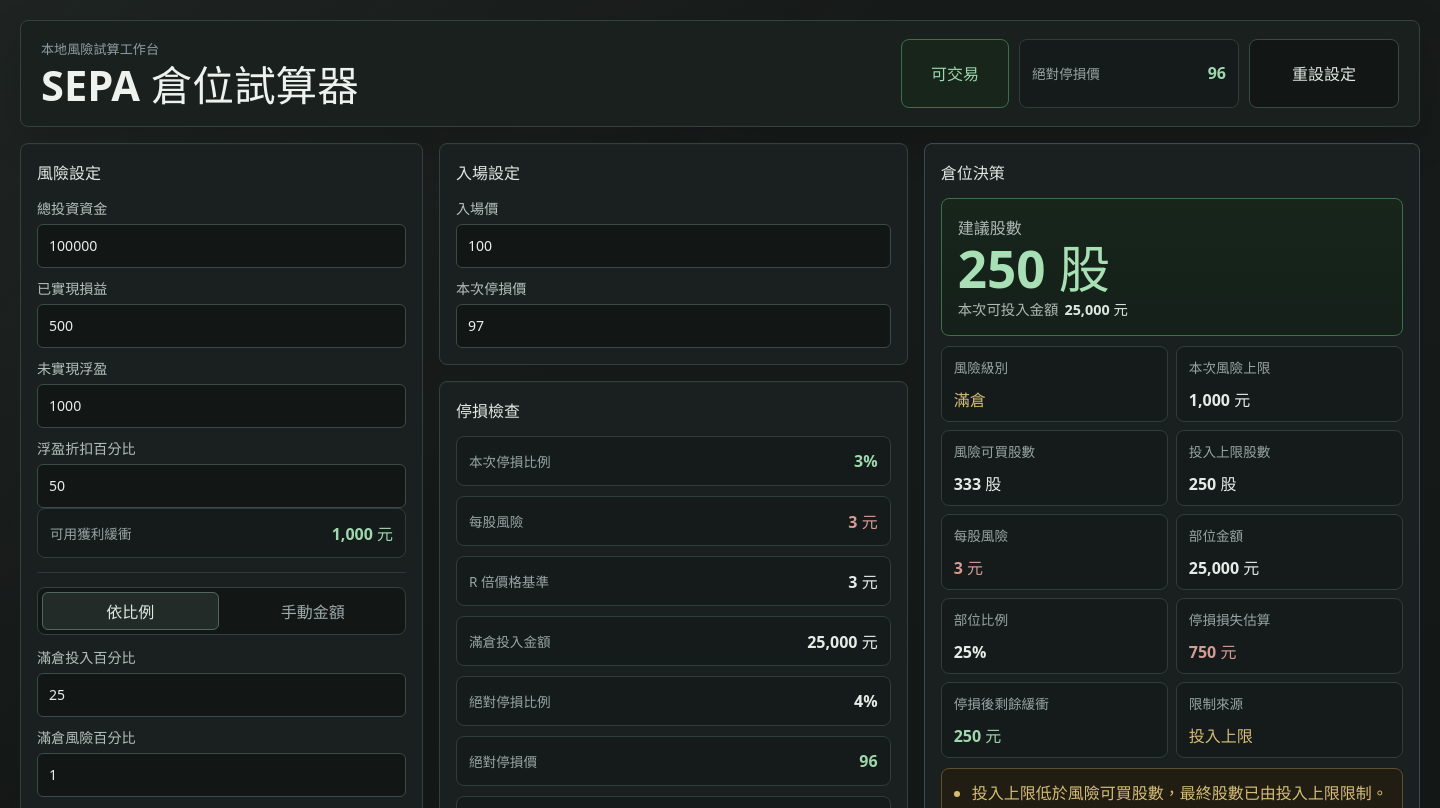
Test: App › 清空必要數值時不顯示非有限推導值
The image size is (1440, 808).
Clear the number field labelled "入場價" at (673, 246), box [456,224,891,268]
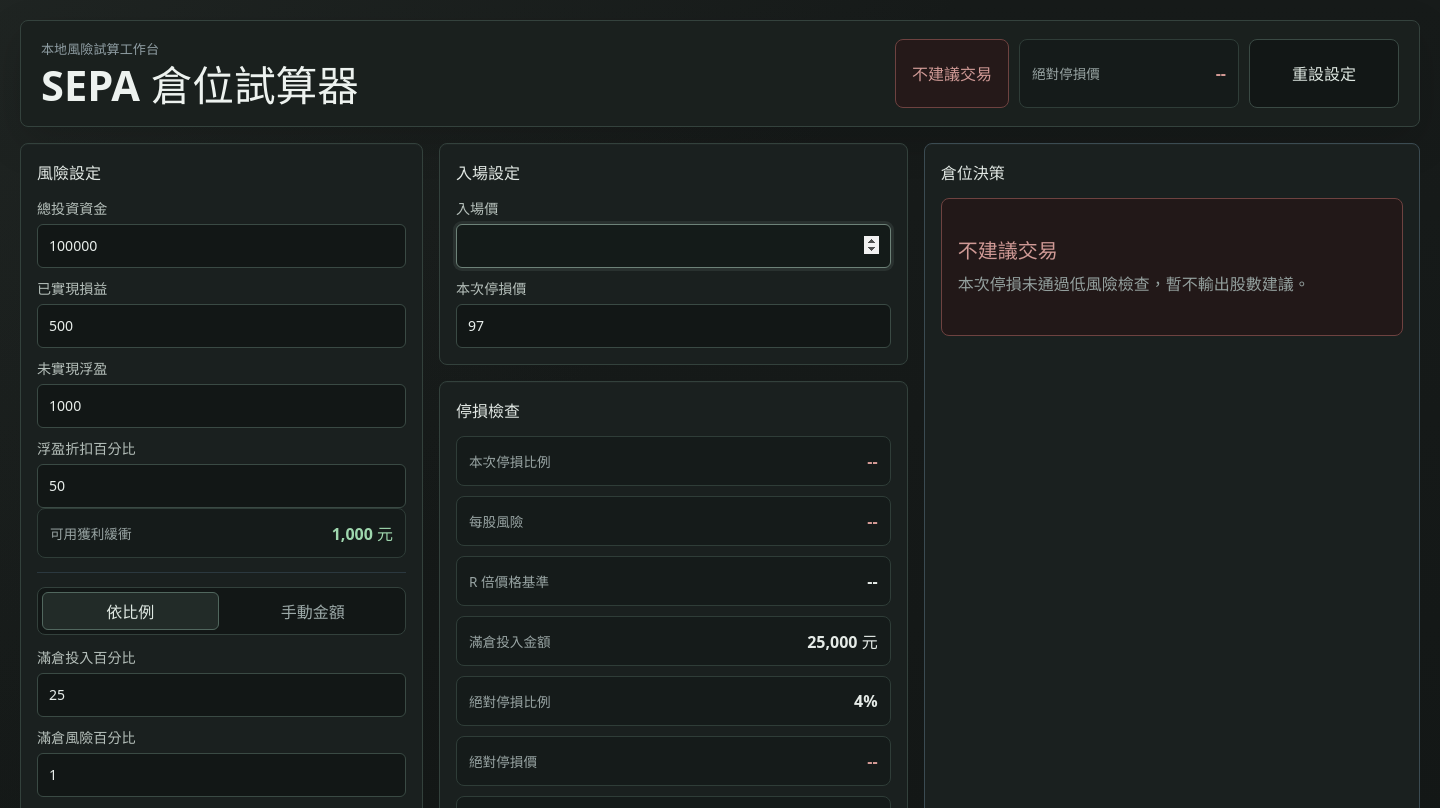
expect the text "不建議交易" in the row of "SEPA 倉位試算器" is shown: met, box [912,63,992,85]
expect the text "--" in the row of "SEPA 倉位試算器" is shown: met, box [1216,62,1226,84]
